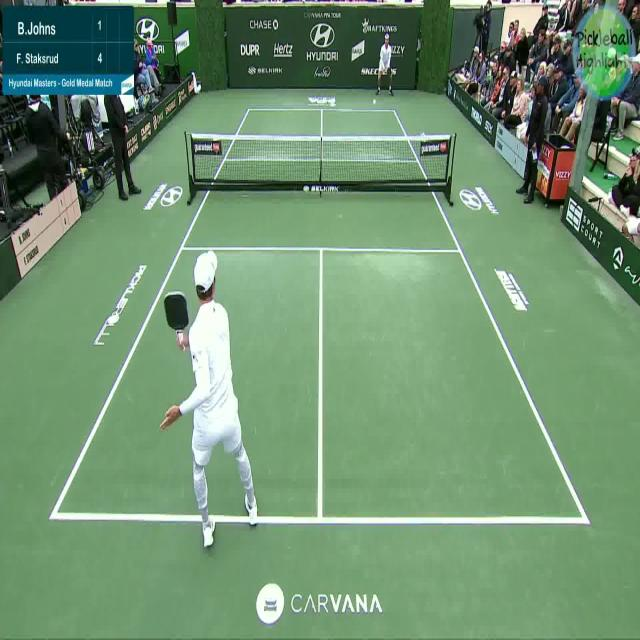Court: (50, 113, 583, 518)
ball: (371, 94, 379, 105)
